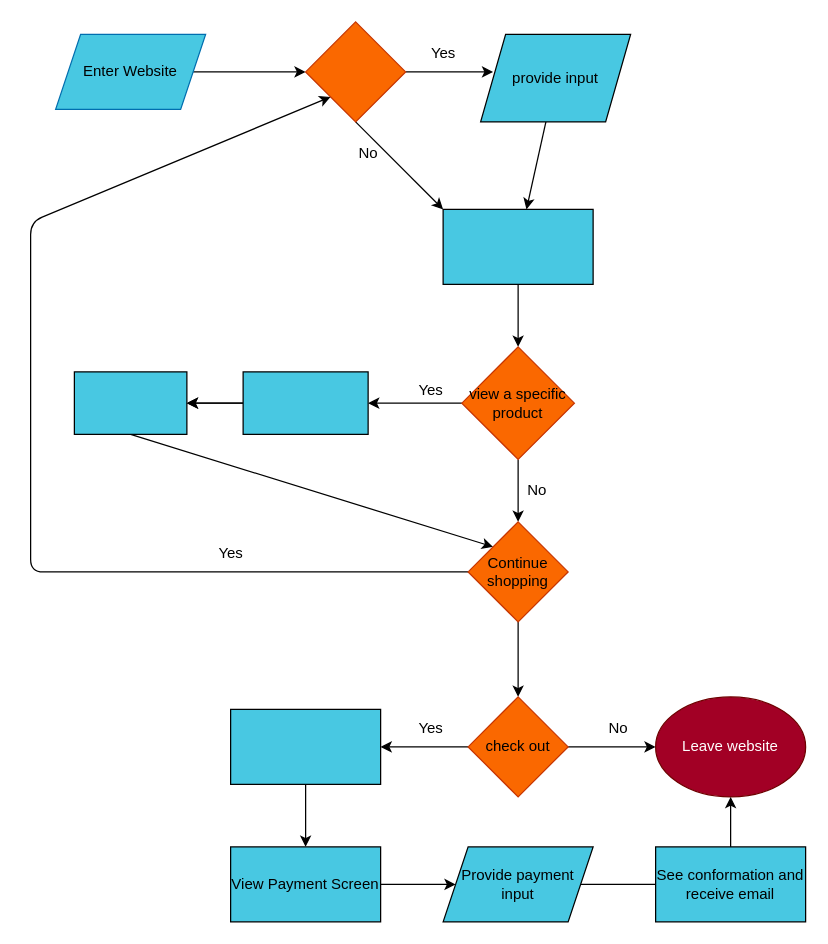
The diagram is 828 pixels wide and 944 high, and some of its shapes have lost their labels. Each missing label, with the centre of its shape:
add to cart: [130,402]
Look over a product: [517,246]
Search product: [355,71]
View Cart Screen: [305,746]
webpage for specific product: [305,402]
